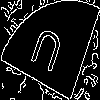U: (25, 25, 65, 83)
